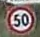limite 50: (5, 5, 36, 34)
